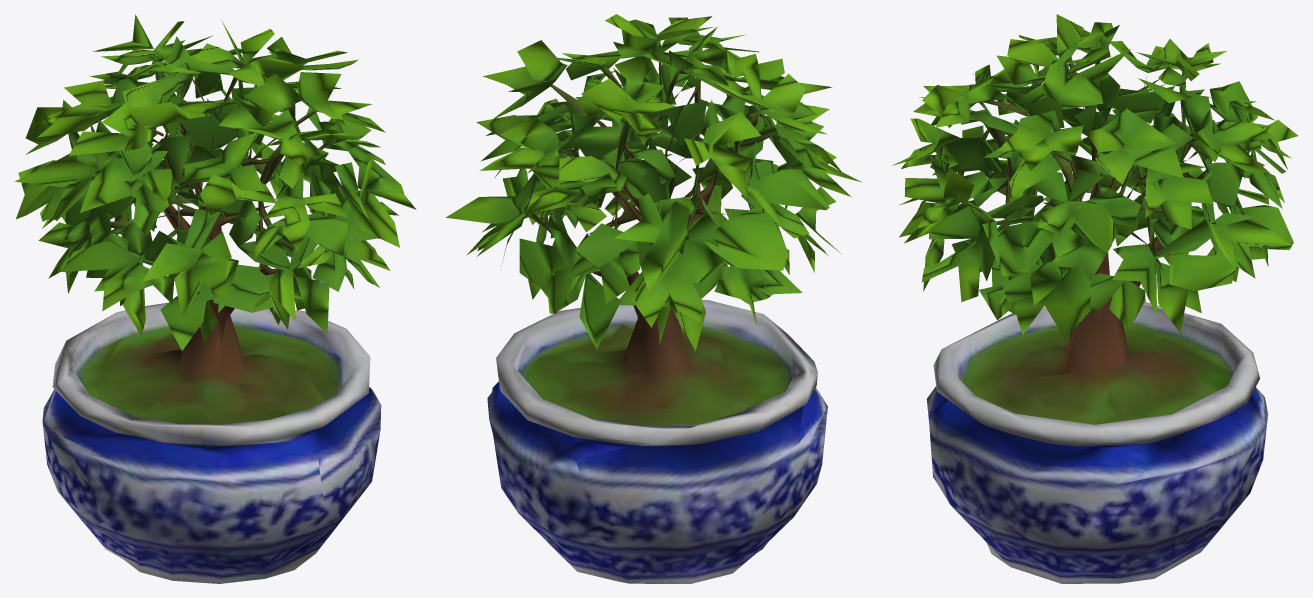
File: potplant.glb
3 views of the same model, side by side, from view 1: azimuth 30°, elevation 25°; view 2: azimuth 150°, elevation 25°; view 3: azimuth 270°, elevation 25° (orthographic).
Parts seen in each view (by area): view 1: tripo_node_6e4871e7-68ee-4a66-a402-862d8347b6d2; view 2: tripo_node_6e4871e7-68ee-4a66-a402-862d8347b6d2; view 3: tripo_node_6e4871e7-68ee-4a66-a402-862d8347b6d2.
Boxes of the visible parts, bbox=[...] form: tripo_node_6e4871e7-68ee-4a66-a402-862d8347b6d2: bbox=[15, 14, 416, 583]; tripo_node_6e4871e7-68ee-4a66-a402-862d8347b6d2: bbox=[446, 14, 861, 583]; tripo_node_6e4871e7-68ee-4a66-a402-862d8347b6d2: bbox=[892, 14, 1298, 583].
Bounding box in the file's own units: 0.3315 × 0.4894 × 0.3543.
1 material, 1 textured.
